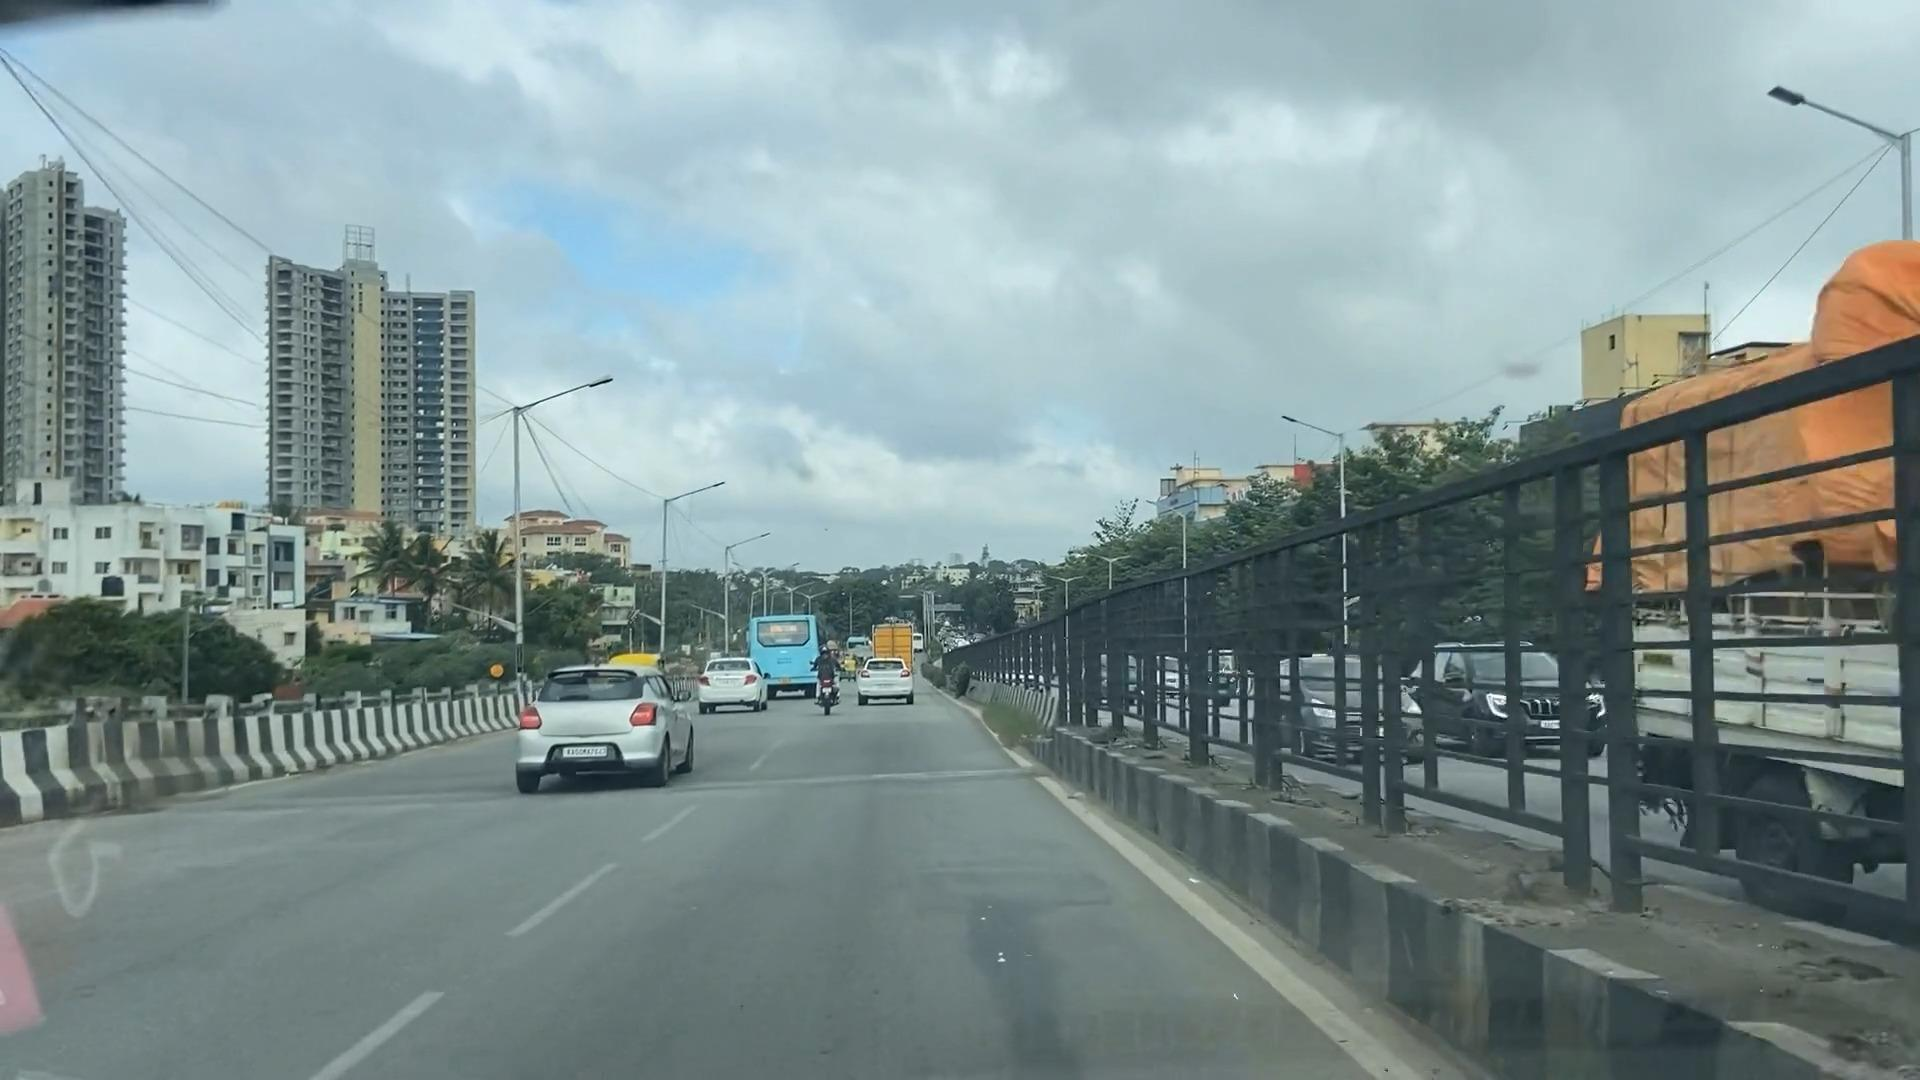HMV: (746, 607, 840, 736)
LMV: (509, 637, 694, 812), (799, 622, 862, 746), (843, 642, 927, 724), (692, 649, 779, 727)
